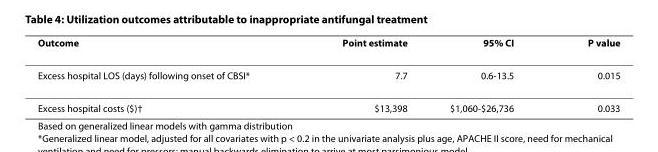table: (36, 36, 619, 113)
table column: (36, 36, 295, 113), (295, 36, 427, 113), (427, 36, 550, 113), (550, 36, 619, 113)
table column header: (36, 36, 619, 58)
table row: (36, 58, 619, 91), (36, 36, 619, 58), (36, 91, 619, 113)
